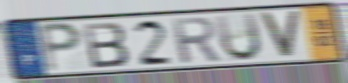2: (131, 18, 174, 66)
B: (81, 20, 131, 70)
P: (36, 21, 85, 75)
R: (168, 15, 223, 66)
U: (213, 11, 264, 64)
V: (257, 10, 302, 60)
